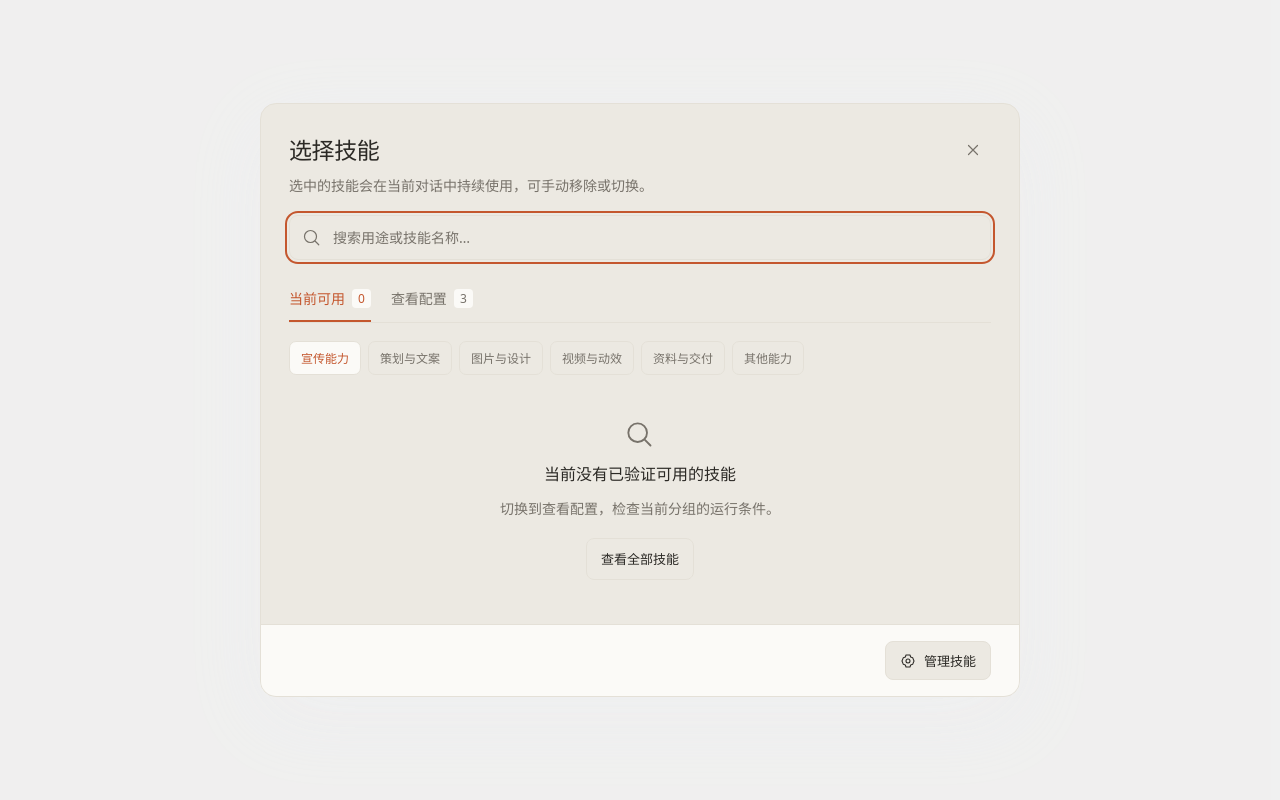
Test: picker does not offer unrelated installed skills as normal promotional choices
The width and height of the screenshot is (1280, 800).
Click the button "查看配置 3".
click(432, 299)  # box x1=391 y1=276 x2=473 y2=322
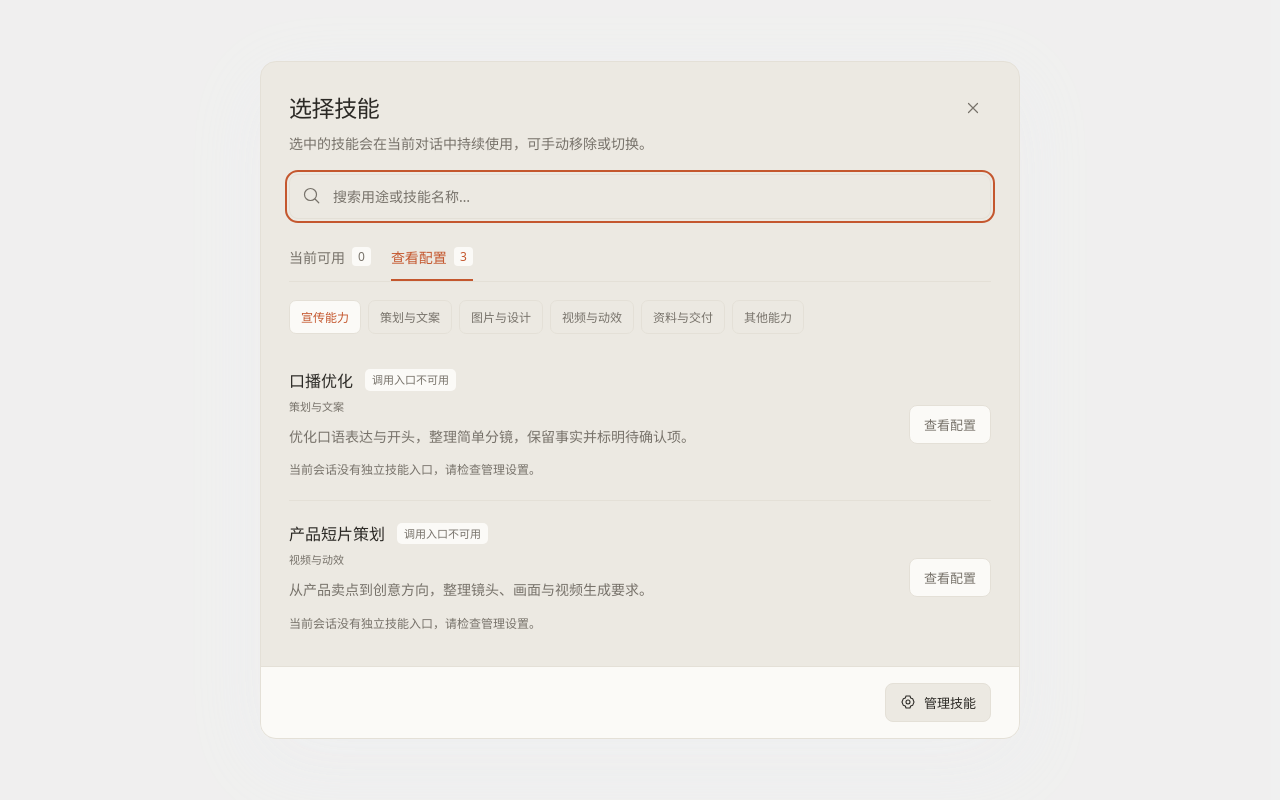
Expected: the text "Codex" is not shown
Expected: the element that starts with "口播优化" is shown, x1=289 y1=370 x2=353 y2=392
Click the button "其他能力".
click(768, 317)  # box x1=732 y1=300 x2=804 y2=334
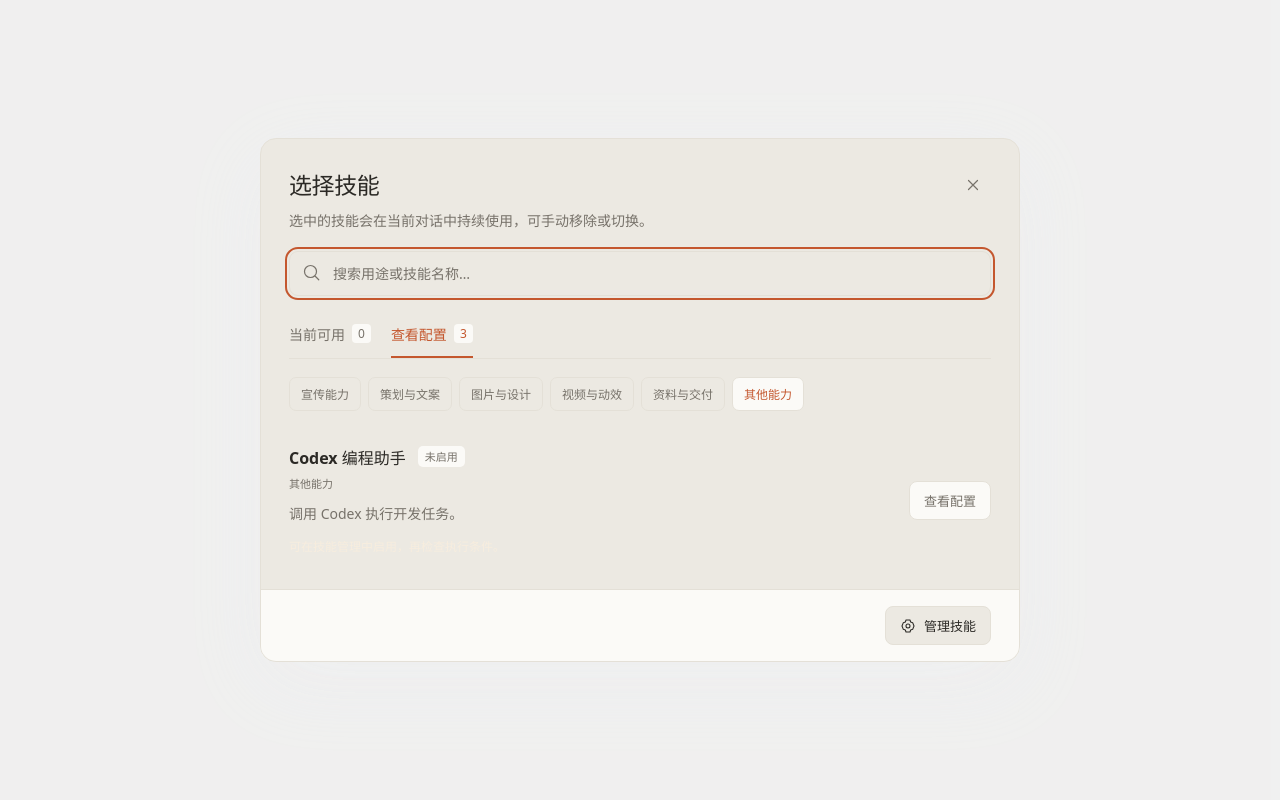
Expected: the element showing "Codex 编程助手 未启用 其他能力 调用 Codex 执行开发任务。 可在技能管理中启用，再检查执行条件。 查看配置" is shown, x1=261 y1=417 x2=1019 y2=589
